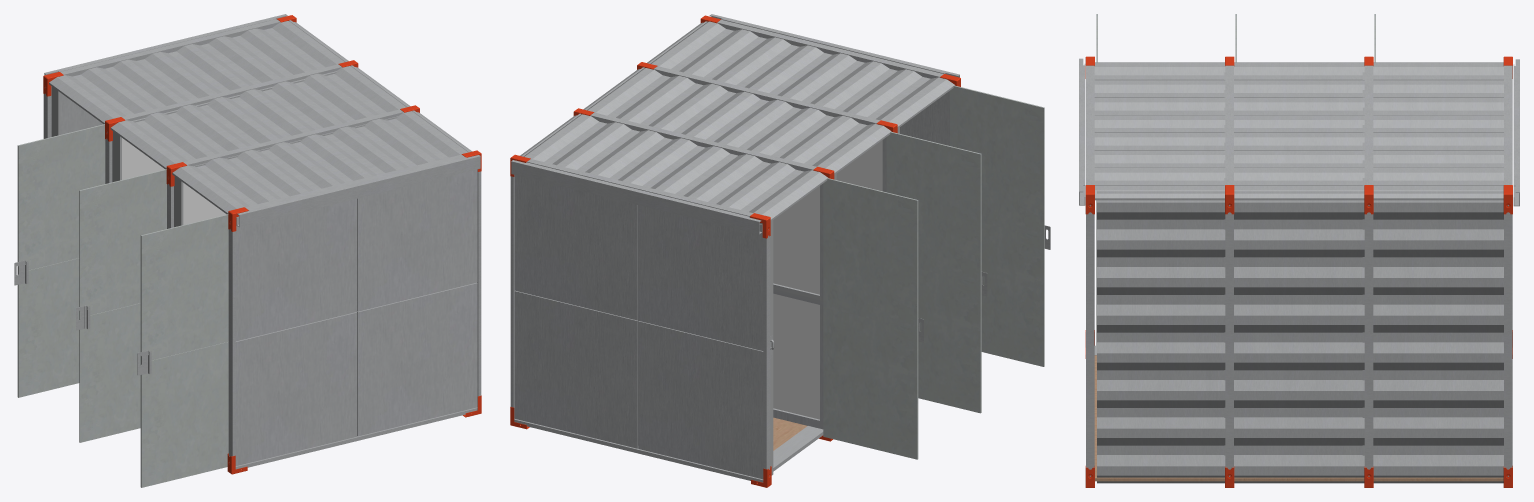
The model's file is 6S3_opened.glb.
3 views of the same model, side by side, from view 1: azimuth 30°, elevation 25°; view 2: azimuth 150°, elevation 25°; view 3: azimuth 270°, elevation 25° (orthographic). The views are drawn at different scales.
Visible parts, largest first — view 1: doors, Cube.001, celing, frontRim, gutter, corners, Wall.001, Cube, Wall.031, gutter.001; view 2: doors, Cube, celing, frontRim, Wall.031, gutter.001, corners, Cube.001, Wall.032, Wall, gutter, floor (+1 smaller); view 3: back, celing, frontRim, corners, floor.002, gutter.001, gutter.
Part boxes in pixels (box(x1,y1,x2,y2)): doors: box(14, 86, 228, 487); Cube.001: box(235, 169, 477, 465); celing: box(49, 21, 472, 214); frontRim: box(43, 19, 481, 469); gutter: box(236, 155, 480, 227); corners: box(43, 15, 481, 474); Wall.001: box(174, 116, 398, 227); Cube: box(50, 86, 103, 136); Wall.031: box(122, 138, 164, 179); gutter.001: box(44, 14, 287, 75); doors: box(770, 85, 1050, 475); Cube: box(514, 175, 763, 479); celing: box(520, 21, 954, 221); frontRim: box(510, 19, 943, 482); Wall.031: box(773, 186, 819, 419); gutter.001: box(511, 160, 762, 234); corners: box(510, 15, 960, 487); Cube.001: box(900, 91, 949, 145); Wall.032: box(773, 183, 823, 429); Wall: box(836, 140, 882, 191); gutter: box(709, 14, 959, 77); floor: box(773, 426, 823, 471); back: box(1097, 190, 1503, 483); celing: box(1094, 62, 1503, 200); frontRim: box(1086, 65, 1512, 476); corners: box(1085, 56, 1512, 487); floor.002: box(1094, 355, 1503, 481); gutter.001: box(1513, 59, 1519, 206); gutter: box(1079, 58, 1085, 205).
Size of what is drawn, in the model's own units: 31.52 by 23.06 by 31.28.
10 materials, 9 textured.
